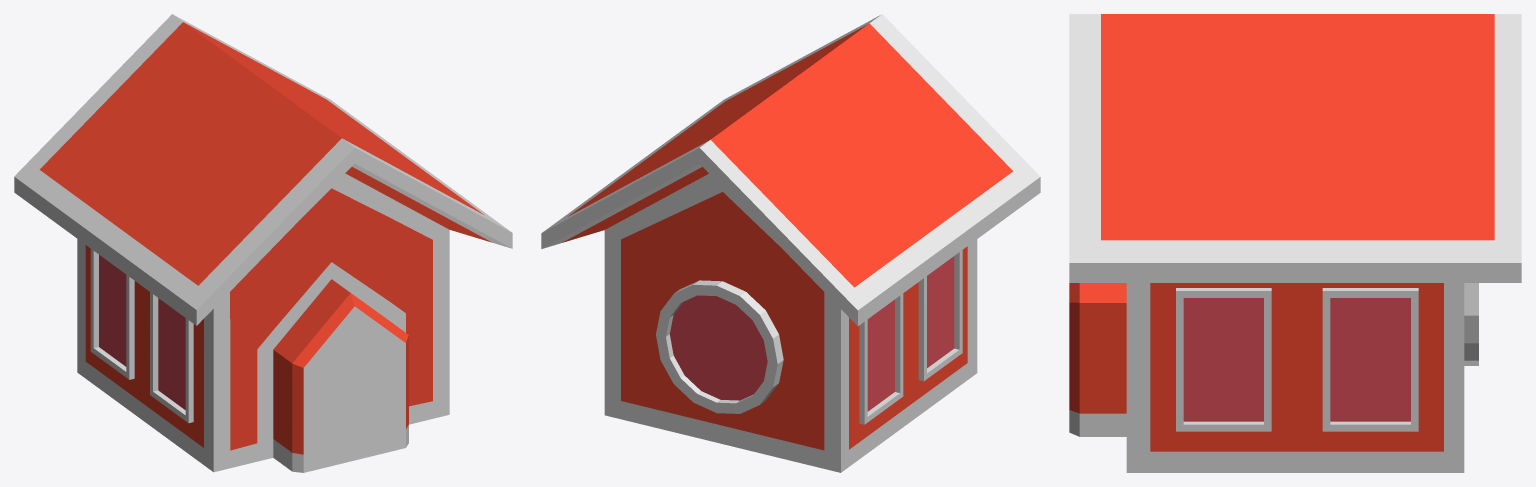
Rendered from houseClassic.fbx.
3 renders of one model, left to right at view 1: azimuth 30°, elevation 25°; view 2: azimuth 150°, elevation 25°; view 3: azimuth 270°, elevation 25°, orthographic. The views are drawn at different scales.
Visible parts, largest first — view 1: HouseClassic; view 2: HouseClassic; view 3: HouseClassic.
Boxes of the visible parts, bbox=[...] form: HouseClassic: bbox=[14, 14, 512, 472]; HouseClassic: bbox=[541, 14, 1040, 472]; HouseClassic: bbox=[1069, 14, 1521, 472].
Size of the model in its own units: 66.7 by 63.1 by 66.7.
